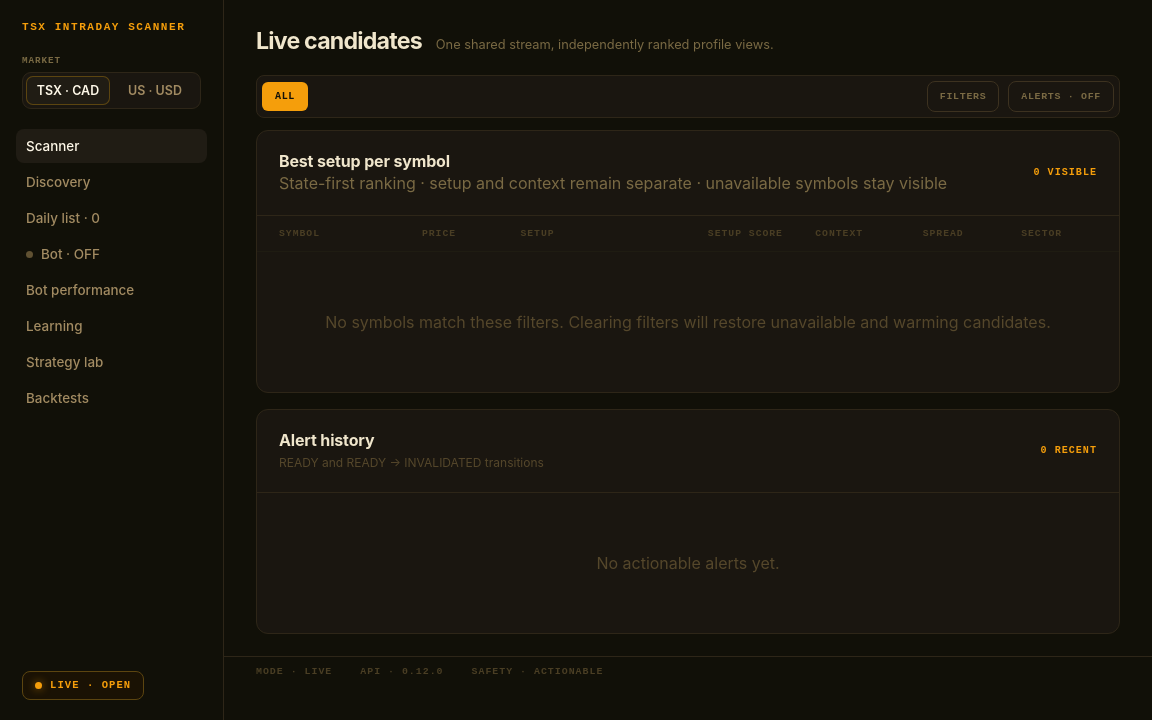
Test: App navigation status › uses the selected market's operational status instead of the default runtime's
Expected: the button with aria-label "System status" shows "LIVE", 22,671 -> 144,700
Click the button "US · USD" at (155, 91), box 113,76 -> 197,106
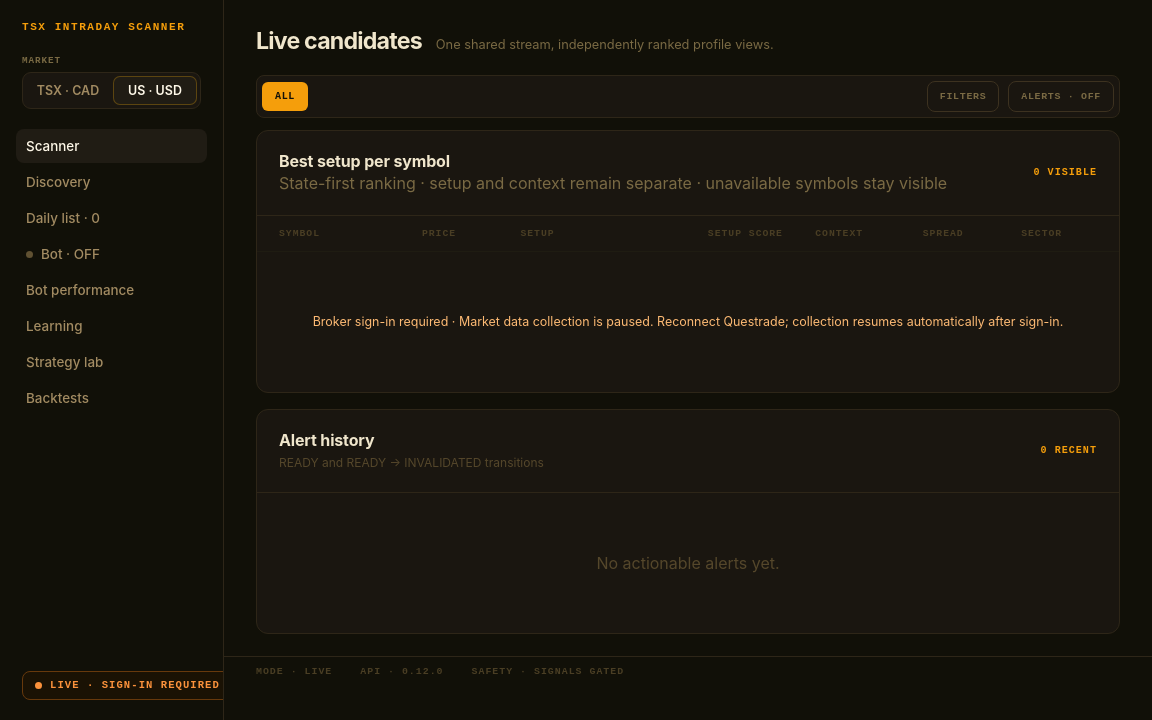
Expected: the button with aria-label "System status" shows "SIGN-IN REQUIRED", 22,671 -> 224,700
Click the button with aria-label "System status" at (127, 686), box 22,671 -> 233,700
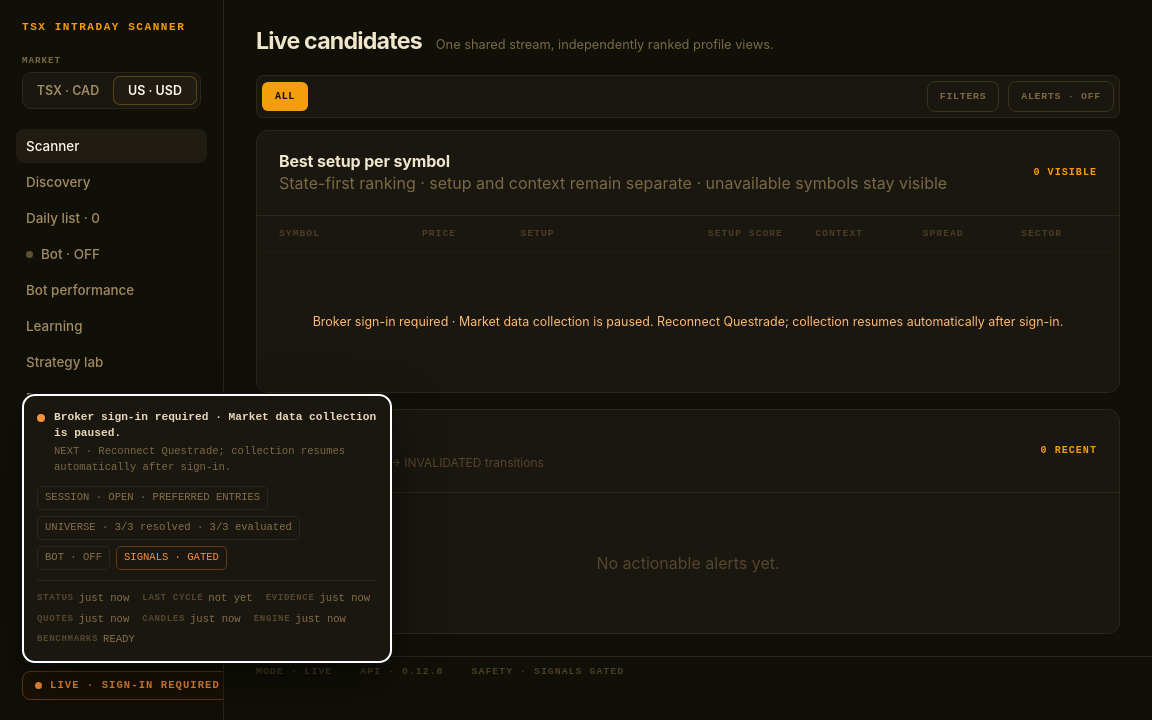
Expected: the text "Broker sign-in required · Market data collection is paused." is shown, 54,409 -> 377,442
